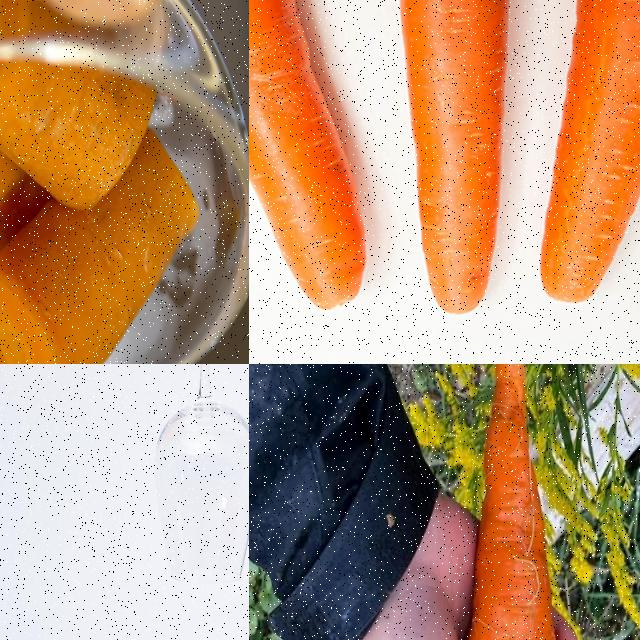carrot: (0, 138, 194, 363), (392, 0, 518, 318), (249, 0, 372, 319), (0, 0, 169, 210), (534, 0, 639, 308), (460, 364, 569, 639)
